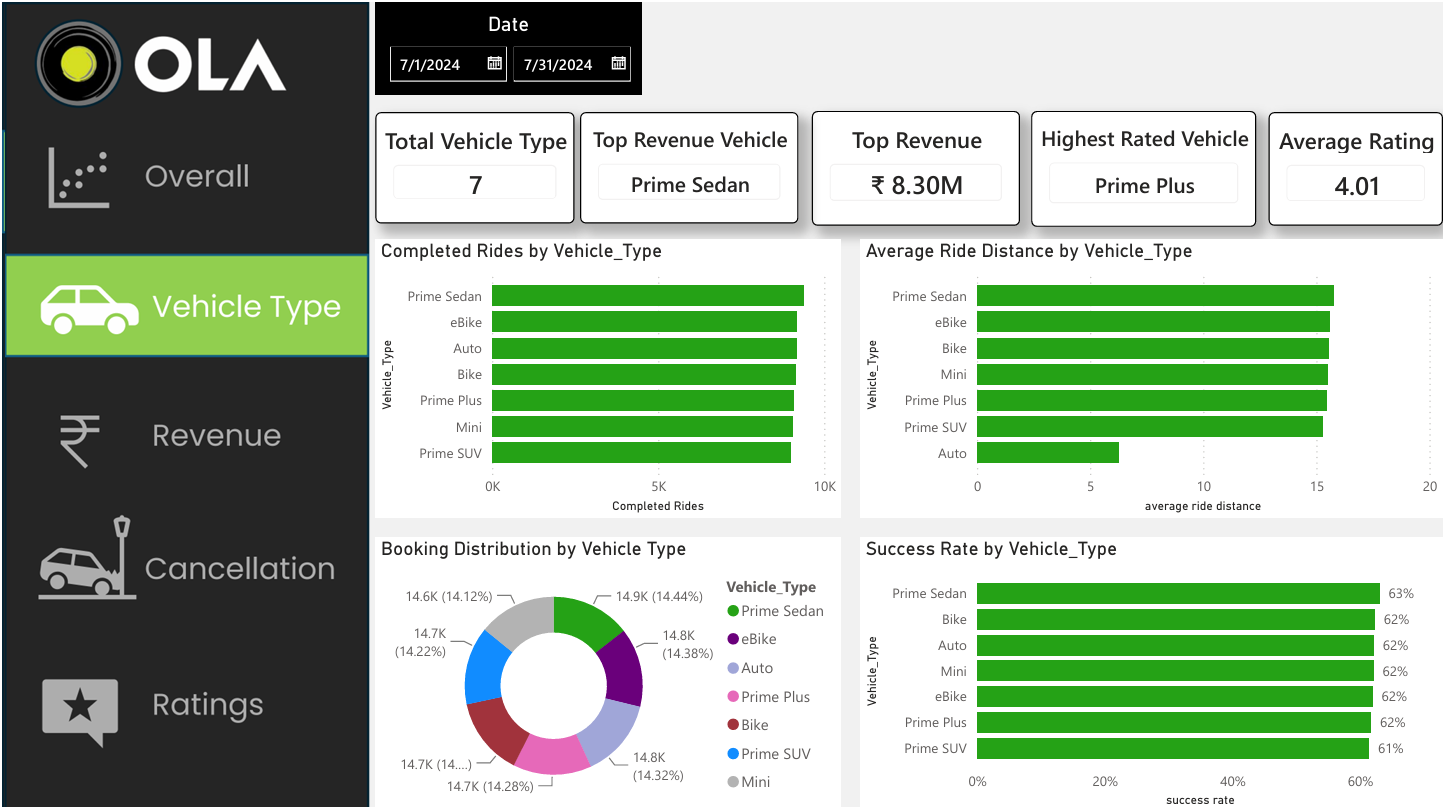

The page's visual inventory and layout, read from the dashboard file:
{"tool":"powerbi","page":{"name":"Vehicle Type","canvas":[1280,720],"ordinal":1},"visuals":[{"type":"slicer","title":"Date","fields":{"Values":["July.Date"]},"box":[330.6,0,237.7,82],"z":0},{"type":"cardVisual","title":"Total Vehicle Type","fields":{"Data":["July.Total Vehicle Types"]},"box":[330.7,97.4,177,99],"z":1000},{"type":"cardVisual","title":"Top Revenue ","fields":{"Data":["July.Top revenue amount"]},"box":[719,96.1,185.2,101.5],"z":2000},{"type":"cardVisual","title":"Highest Rated Vehicle","fields":{"Data":["July.Highest rated vehicle"]},"box":[913.9,96.1,200.3,102.9],"z":3000},{"type":"cardVisual","title":"Top Revenue Vehicle","fields":{"Data":["July.Top Revenue vehicle"]},"box":[513.2,97.4,193.5,98.8],"z":4000},{"type":"cardVisual","title":"Average Rating","fields":{"Data":["July.Highest rating"]},"box":[1125.2,97.4,155.1,100.2],"z":5000},{"type":"donutChart","title":"Booking Distribution by Vehicle Type","fields":{"Category":["July.Vehicle_Type"],"Y":["CountNonNull(July.Booking_ID)"]},"box":[330.7,474.8,414.4,245.6],"z":6000},{"type":"clusteredBarChart","title":"Average Ride Distance by Vehicle_Type","fields":{"Category":["July.Vehicle_Type"],"Y":["July.average ride distance"]},"box":[761.6,209.9,518.7,248.4],"z":7000},{"type":"clusteredBarChart","fields":{"Category":["July.Vehicle_Type"],"Y":["July.Completed Rides"]},"box":[330.7,209.9,414.4,248.4],"z":8000},{"type":"barChart","title":"Success Rate by Vehicle_Type","fields":{"Category":["July.Vehicle_Type"],"Y":["July.success rate"]},"box":[761.6,474.8,518.7,245.6],"z":9000},{"type":"actionButton","box":[0,458.3,322.5,87.8],"z":10000},{"type":"actionButton","box":[0,588.7,322.5,87.8],"z":11000},{"type":"actionButton","box":[8.2,348.5,322.5,87.8],"z":12000},{"type":"actionButton","box":[0,227.8,322.5,87.8],"z":13000},{"type":"actionButton","box":[0,119.4,322.5,79.6],"z":14000},{"type":"image","box":[0,0,328,720.4],"z":15000},{"type":"actionButton","box":[2.7,580.4,321.1,90.6],"z":16000},{"type":"actionButton","box":[1.5,458.1,323.1,92.5],"z":17000},{"type":"actionButton","box":[1.4,341.7,322.5,91.9],"z":18000},{"type":"actionButton","box":[2.7,222.3,322.5,87.8],"z":19000},{"type":"actionButton","box":[0,120.8,325.2,91.9],"z":20000}]}

Visuals, with their boxes on the page's 1280x720 design canvas (x1, y1, x2, y2). These are canvas units, not pixel positions in the 1446x807 screenshot, which may show the page scaled, cropped or inside an application window:
"Date" slicer: l=331, t=0, r=568, b=82
"Total Vehicle Type" cardVisual: l=331, t=97, r=508, b=196
"Top Revenue " cardVisual: l=719, t=96, r=904, b=198
"Highest Rated Vehicle" cardVisual: l=914, t=96, r=1114, b=199
"Top Revenue Vehicle" cardVisual: l=513, t=97, r=707, b=196
"Average Rating" cardVisual: l=1125, t=97, r=1280, b=198
"Booking Distribution by Vehicle Type" donutChart: l=331, t=475, r=745, b=720
"Average Ride Distance by Vehicle_Type" clusteredBarChart: l=762, t=210, r=1280, b=458
clusteredBarChart - July.Vehicle_Type x July.Completed Rides: l=331, t=210, r=745, b=458
"Success Rate by Vehicle_Type" barChart: l=762, t=475, r=1280, b=720
actionButton: l=0, t=458, r=322, b=546
actionButton: l=0, t=589, r=322, b=676
actionButton: l=8, t=348, r=331, b=436
actionButton: l=0, t=228, r=322, b=316
actionButton: l=0, t=119, r=322, b=199
image: l=0, t=0, r=328, b=720
actionButton: l=3, t=580, r=324, b=671
actionButton: l=2, t=458, r=325, b=551
actionButton: l=1, t=342, r=324, b=434
actionButton: l=3, t=222, r=325, b=310
actionButton: l=0, t=121, r=325, b=213
